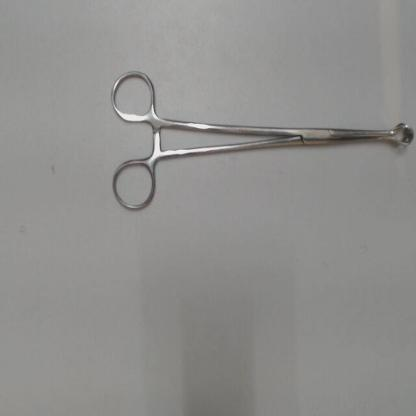8 Babcock Tissue Forceps: (103, 66, 416, 219)
